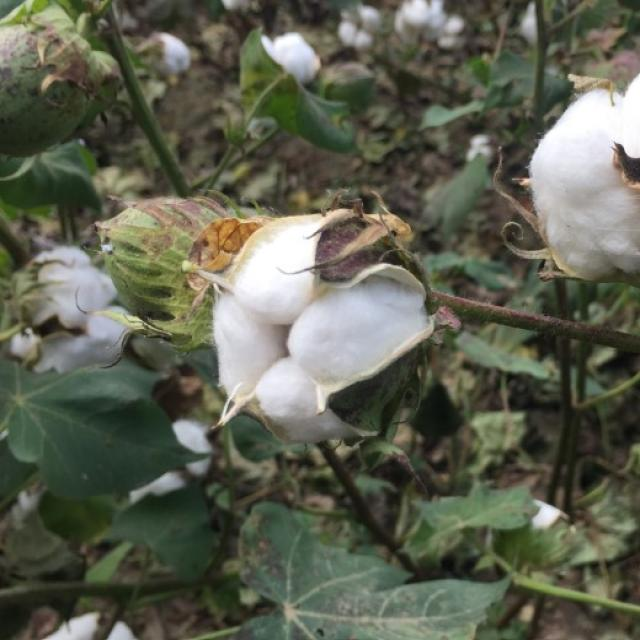Early Boll: (99, 188, 223, 322), (0, 14, 112, 149)
Matured Cotton Boll: (532, 64, 640, 296), (10, 246, 115, 367)
Split Cotton Boll: (212, 202, 436, 424)
